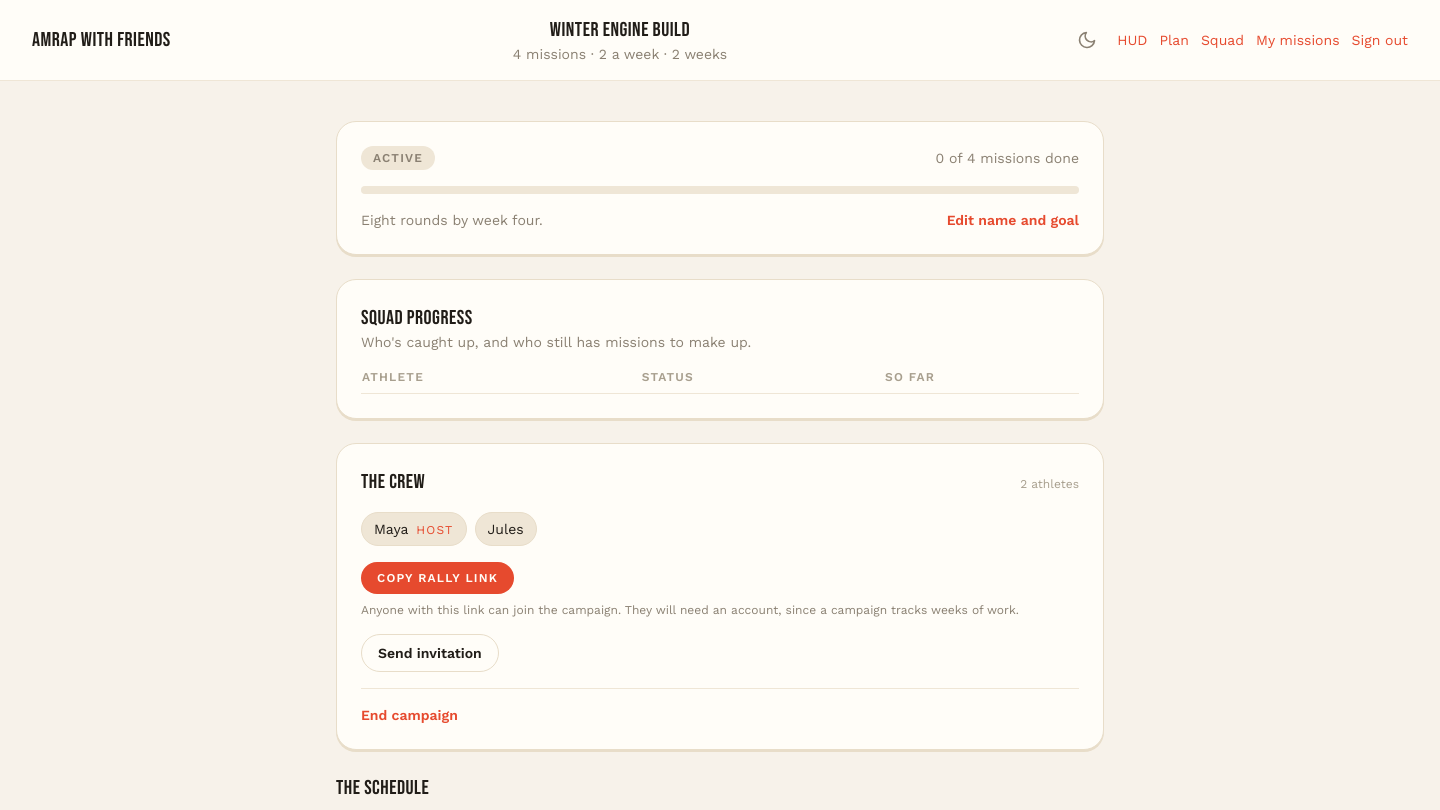
Test: CampaignDetailPage › copies the invite URL built from the code
Click the button "COPY RALLY LINK" at (438, 578), box x1=361 y1=562 x2=514 y2=594
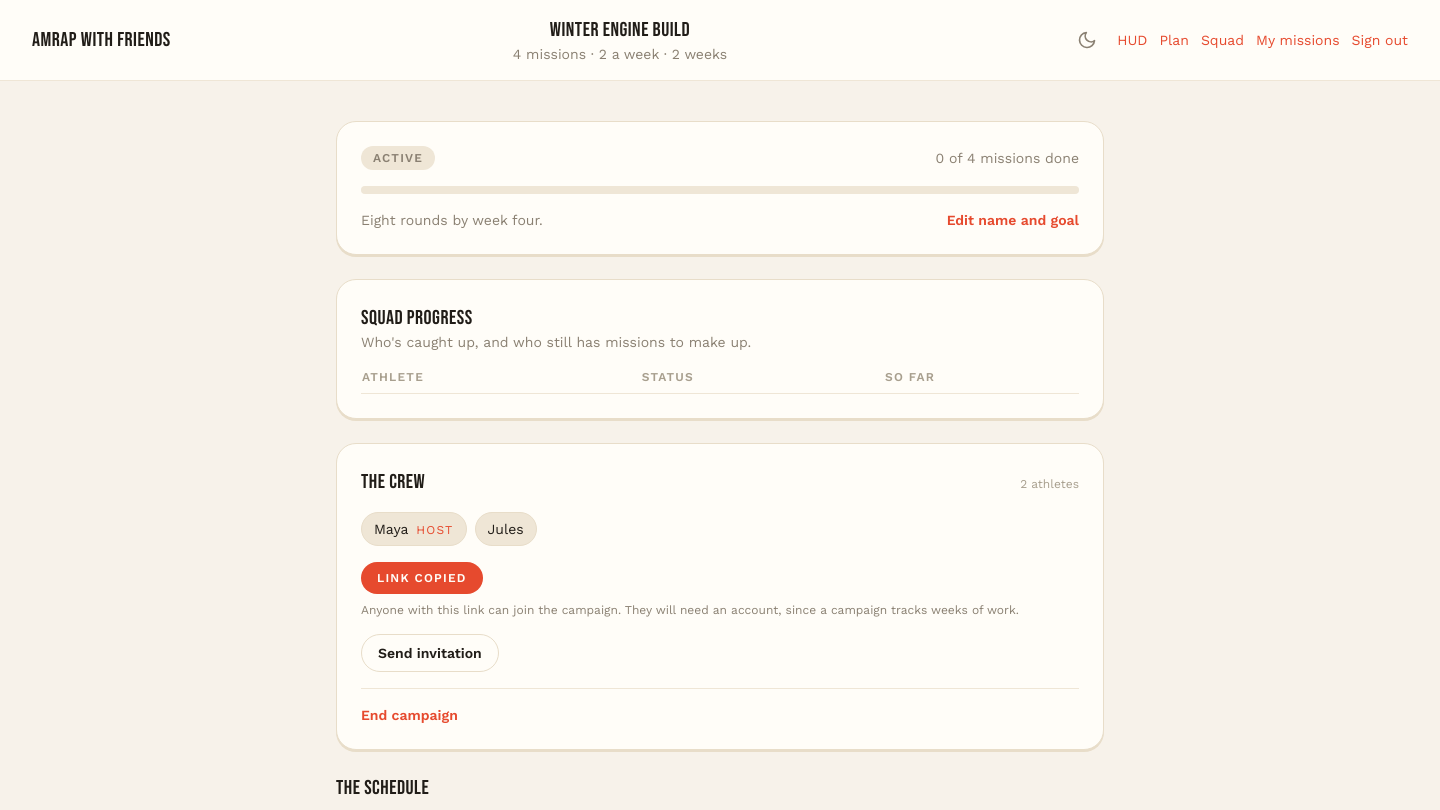
Expected: the button "LINK COPIED" is shown, x1=361 y1=562 x2=482 y2=594
